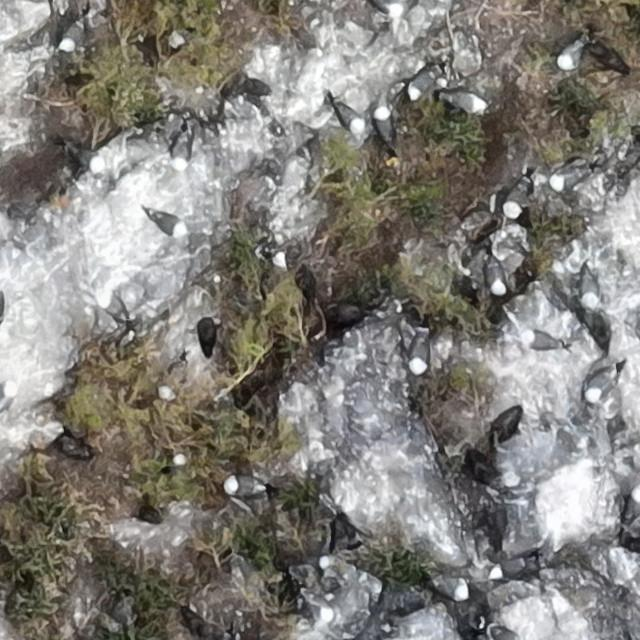umineko: (506, 174, 537, 218), (484, 555, 532, 581), (429, 572, 471, 600), (152, 210, 190, 240), (97, 294, 135, 324), (68, 143, 106, 172), (552, 166, 596, 191), (303, 590, 334, 622), (171, 131, 192, 174), (408, 71, 436, 99), (448, 92, 487, 112), (336, 104, 363, 132), (559, 41, 585, 70), (408, 333, 427, 372), (586, 369, 612, 397), (582, 267, 600, 307), (226, 476, 262, 495), (60, 20, 83, 49), (526, 332, 562, 350), (375, 110, 393, 142), (491, 626, 523, 640), (487, 266, 503, 294), (0, 381, 18, 405)
